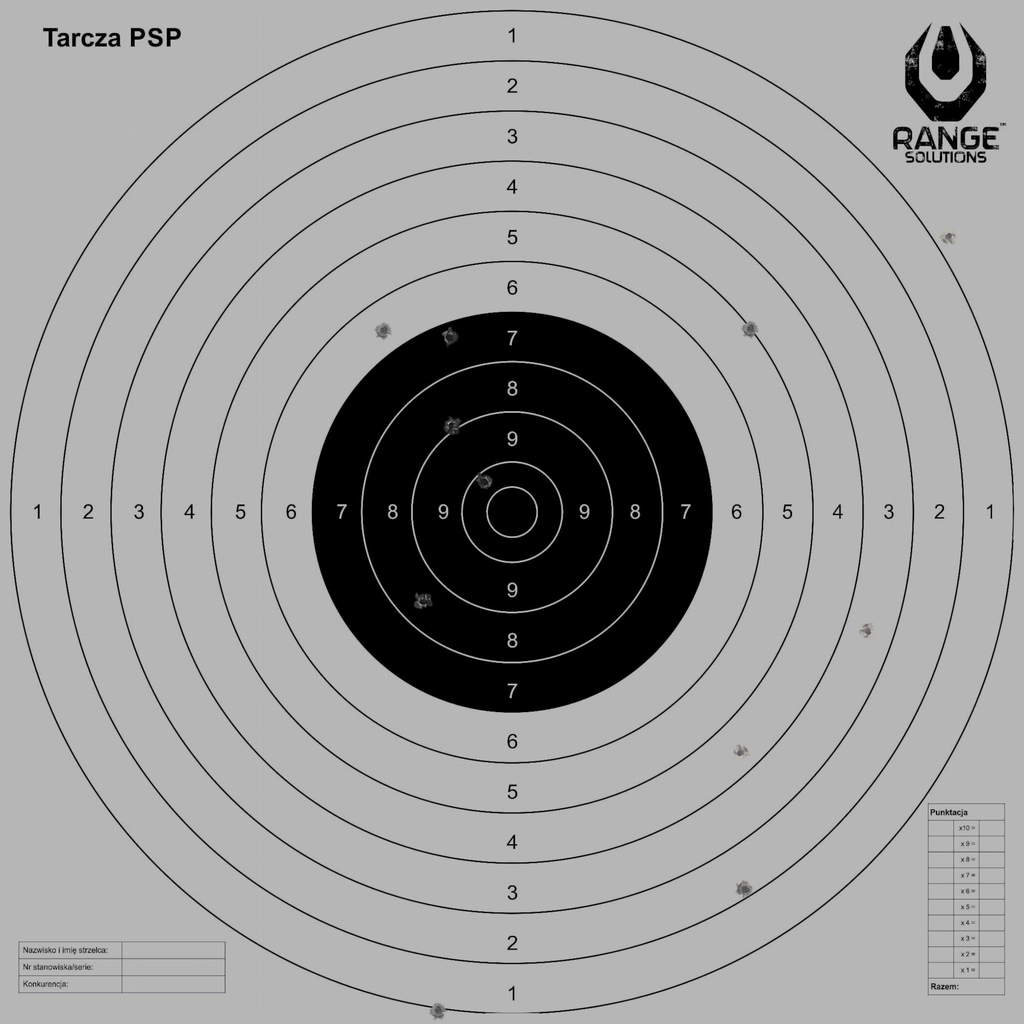0 punktow: (940, 227, 958, 246)
1 punkt: (429, 1001, 447, 1020)
10 punktow: (475, 472, 493, 491)
2 punkty: (736, 880, 754, 899)
3 punkty: (859, 622, 877, 641)
4 punkty: (731, 743, 750, 762)
5 punktow: (741, 320, 760, 338)
6 punktow: (374, 321, 393, 340)
7 punktow: (440, 328, 459, 347)
8 punktow: (414, 592, 433, 611)
9 punktow: (443, 416, 461, 435)
